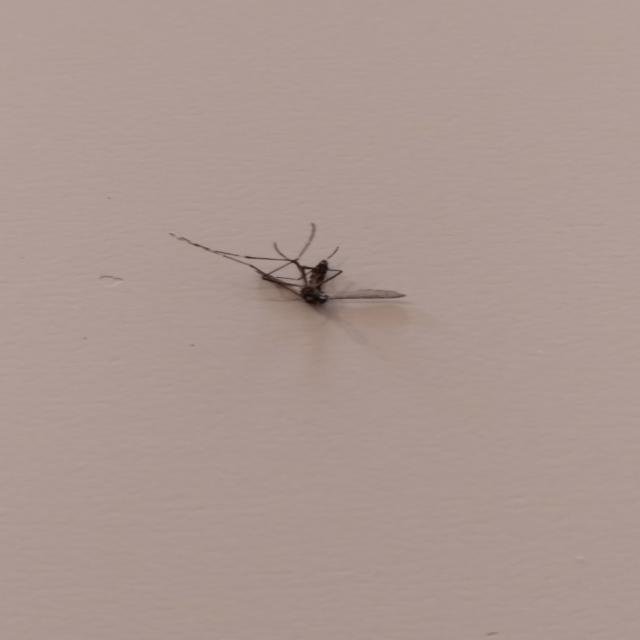albopictus: (172, 218, 406, 310)
